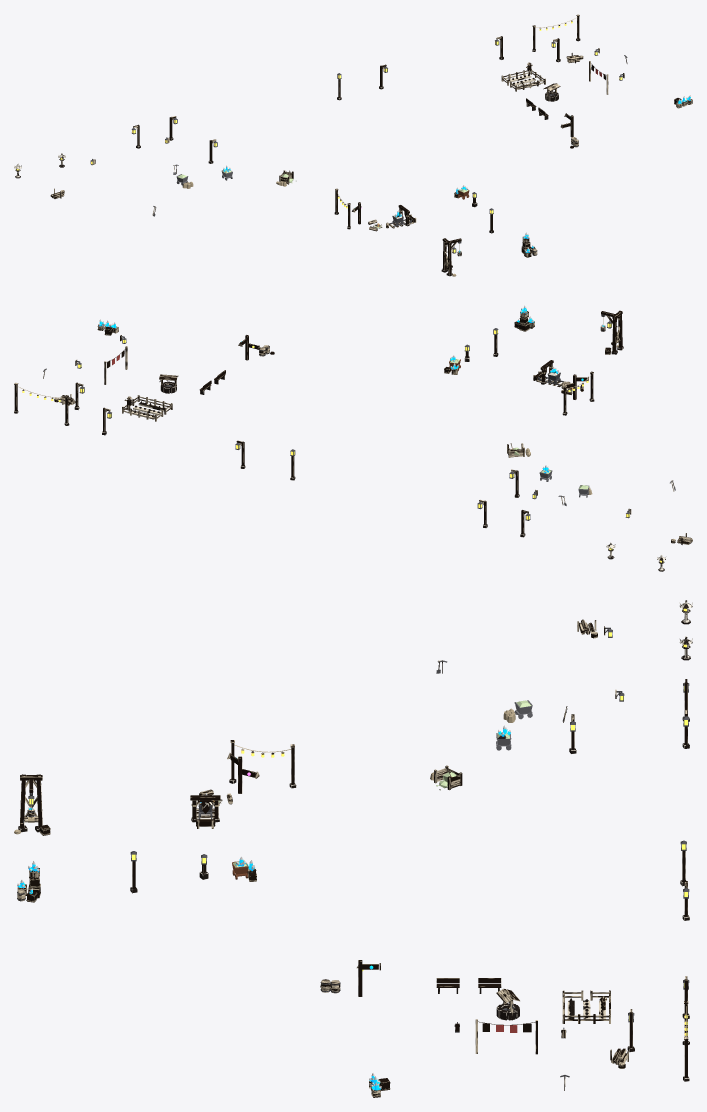
File: LOBBY_08_PROPS_87a2cf.fbx
3 renders of one model, top to bottom at view 1: azimuth 30°, elevation 25°; view 2: azimuth 150°, elevation 25°; view 3: azimuth 270°, elevation 25°, orthographic. The views are drawn at different scales.
Visible parts, largest first — view 1: PROP_Lanterns_Center__Wood_Dark_B, PROP_Story_East__Wood_Plank, PROP_Story_East__Wood_Dark_B, PROP_Lanterns_East__Wood_Dark; view 2: PROP_Lanterns_Center__Wood_Dark_B, PROP_Story_East__Wood_Plank, PROP_Story_East__Wood_Dark_B, PROP_Lanterns_East__Wood_Dark; view 3: PROP_Lanterns_Center__Wood_Dark_B, PROP_Story_East__Wood_Plank, PROP_Story_East__Wood_Dark_B, PROP_Lanterns_East__Wood_Dark.
Part boxes in pixels (x1,y1,x2,y2): PROP_Lanterns_Center__Wood_Dark_B: [335, 188, 532, 273]; PROP_Story_East__Wood_Plank: [502, 57, 692, 148]; PROP_Story_East__Wood_Dark_B: [501, 53, 692, 137]; PROP_Lanterns_East__Wood_Dark: [338, 14, 624, 97]; PROP_Lanterns_Center__Wood_Dark_B: [465, 310, 622, 412]; PROP_Story_East__Wood_Plank: [43, 324, 274, 419]; PROP_Story_East__Wood_Dark_B: [54, 325, 248, 421]; PROP_Lanterns_East__Wood_Dark: [14, 335, 294, 477]; PROP_Lanterns_Center__Wood_Dark_B: [17, 740, 294, 902]; PROP_Story_East__Wood_Plank: [320, 963, 610, 1097]; PROP_Story_East__Wood_Dark_B: [358, 960, 628, 1097]; PROP_Lanterns_East__Wood_Dark: [455, 851, 688, 1077].
Bounding box in the file's own units: 245 × 14.54 × 147.
Materials: 15 (4 with a texture image).
